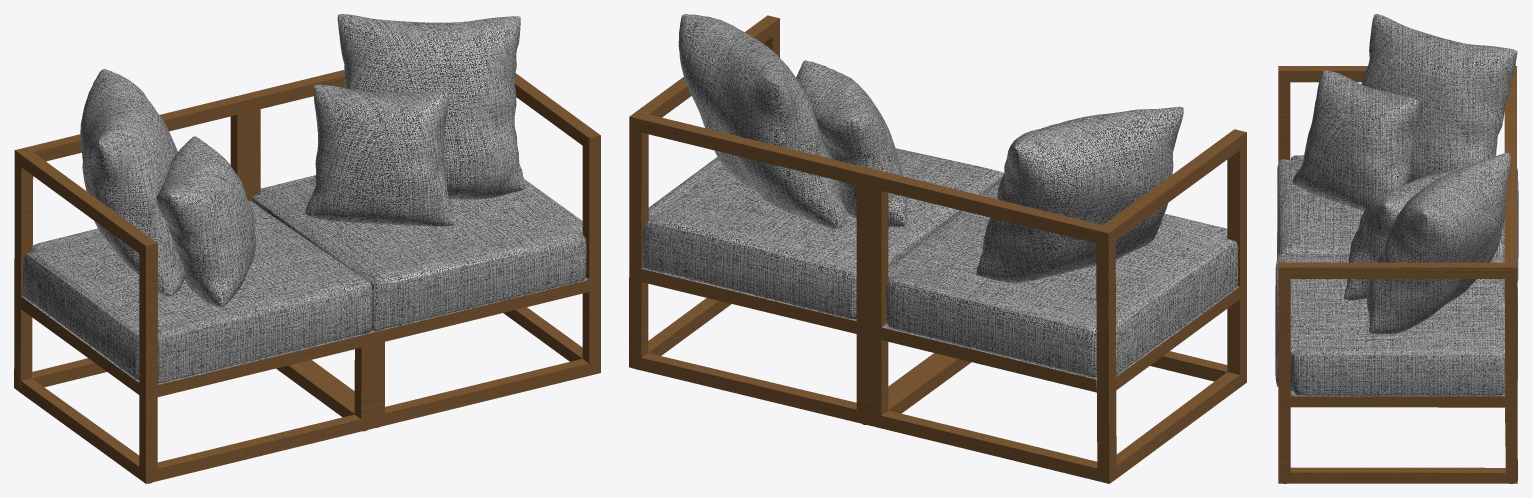
The picture shows the model from 3 angles, left to right: view 1: azimuth 30°, elevation 25°; view 2: azimuth 150°, elevation 25°; view 3: azimuth 270°, elevation 25°; orthographic projection. The views are drawn at different scales.
Parts seen in each view (by area): view 1: C-skp361.001, C-skp361; view 2: C-skp361.001, C-skp361; view 3: C-skp361, C-skp361.001.
Boxes of the visible parts, bbox=[...] form: C-skp361.001: bbox=[14, 69, 373, 483]; C-skp361: bbox=[242, 14, 600, 428]; C-skp361.001: bbox=[869, 106, 1246, 483]; C-skp361: bbox=[629, 14, 1003, 425]; C-skp361: bbox=[1275, 152, 1517, 483]; C-skp361.001: bbox=[1277, 14, 1518, 281].
Bounding box in the file's own units: 1.27 × 0.7963 × 0.6418.
Materials: 4 (3 with a texture image).
